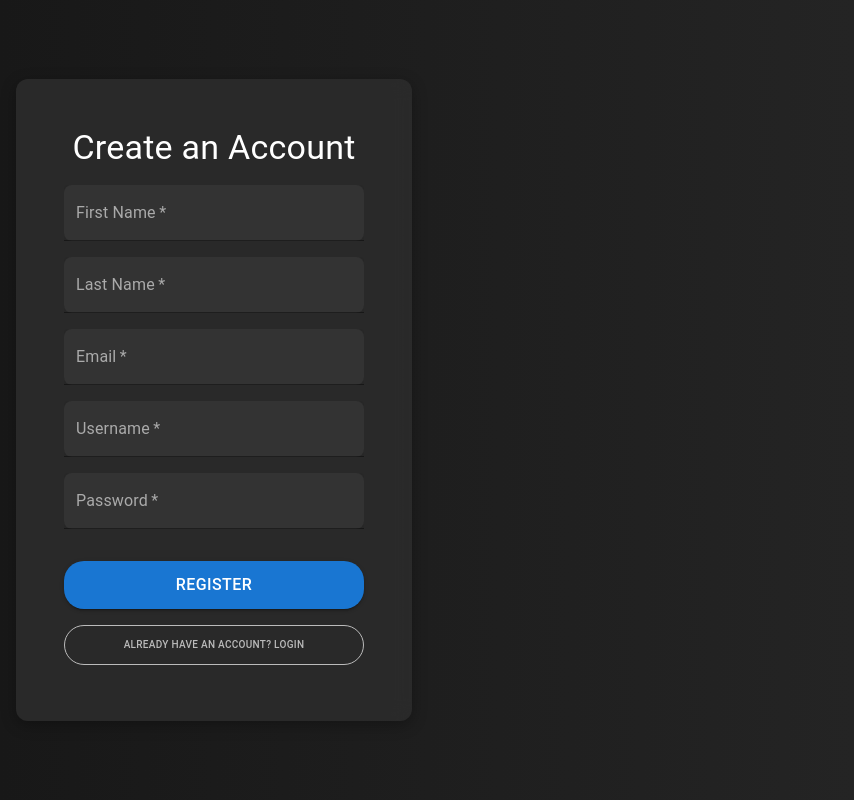
Test: Register Page › should validate email format
Fill all fields but with invalid email
Step 1. Type "Test" into the field with id "tf-fName" → (214, 213), box [64,185,364,241]
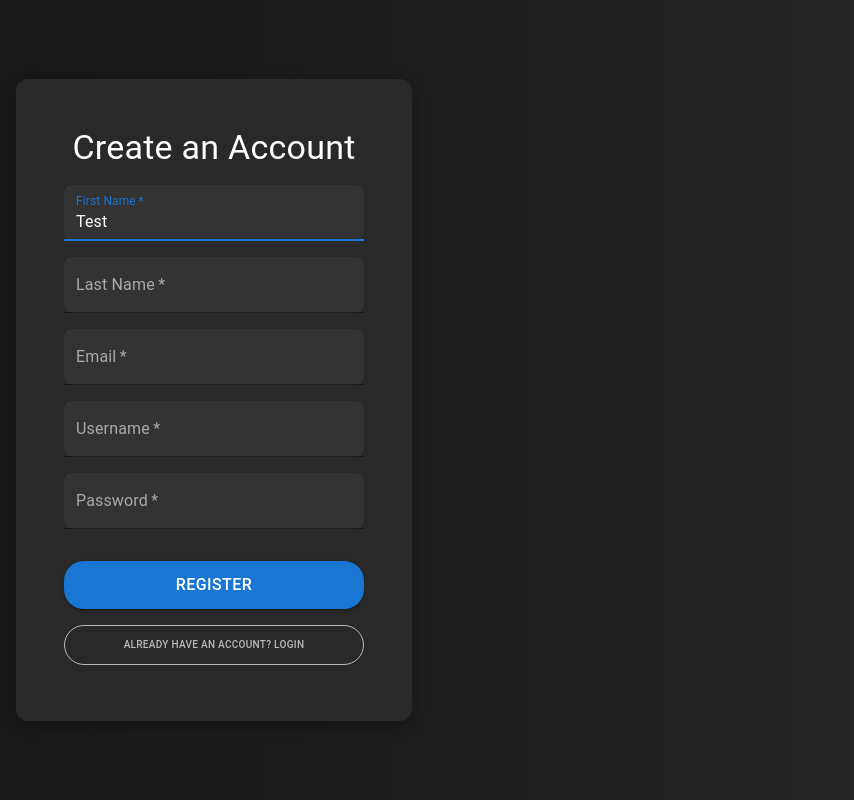
Step 2. Type "User" into the field with id "tf-lName" → (214, 285), box [64,257,364,313]
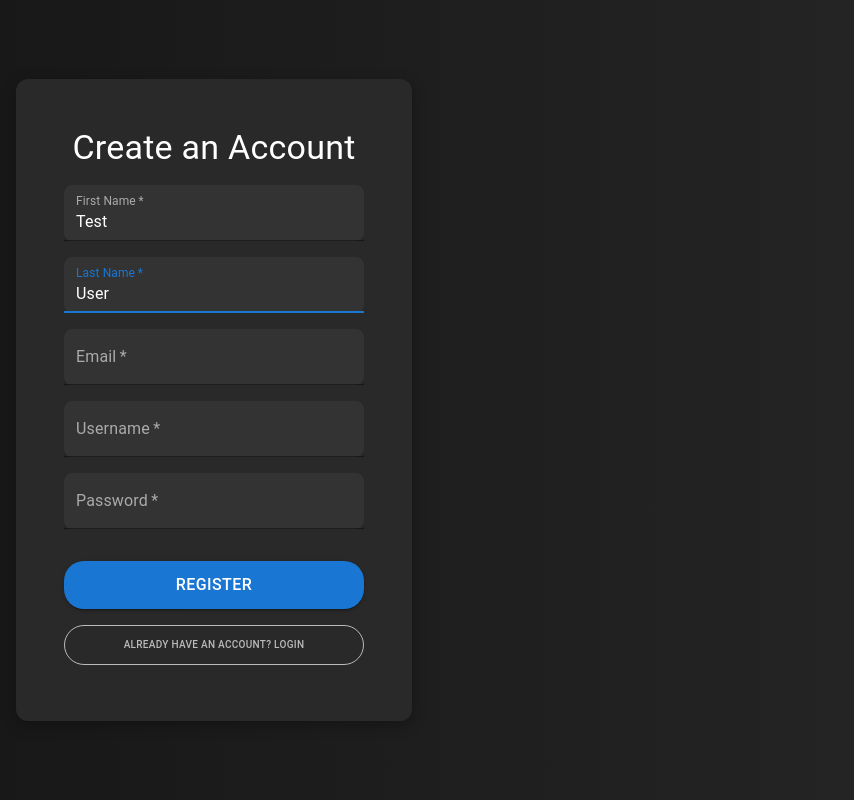
Step 3. Type "invalid-email" into the field with id "tf-email" → (214, 357), box [64,329,364,385]
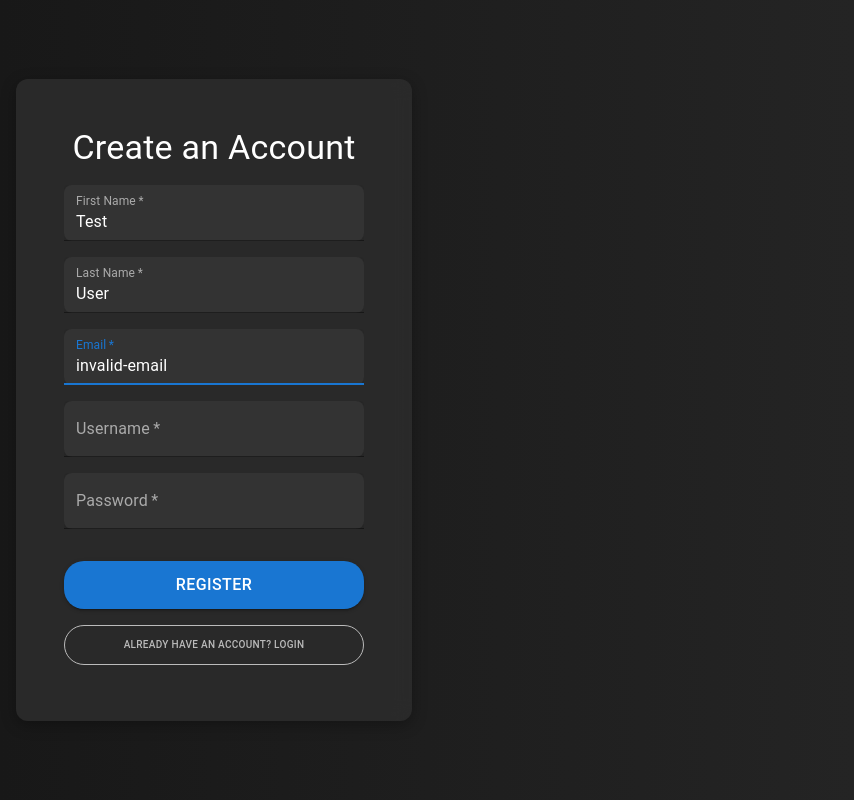
Step 4. Type "testuser" into the field with id "tf-username" → (214, 429), box [64,401,364,457]
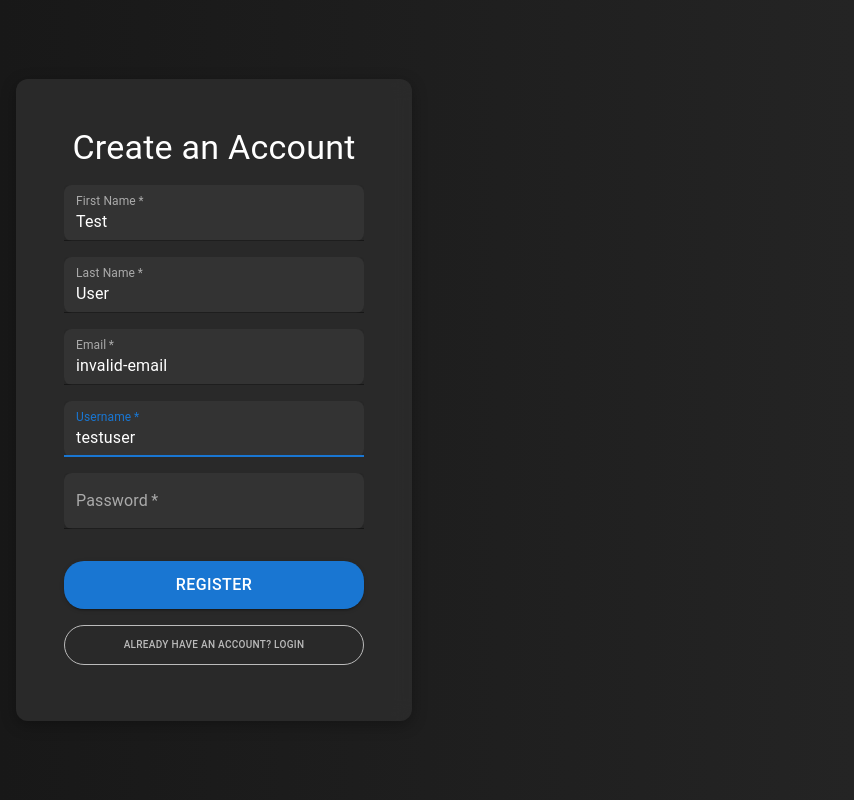
Step 5. Type "12345678" into the password field with id "tf-password" → (214, 501), box [64,473,364,529]
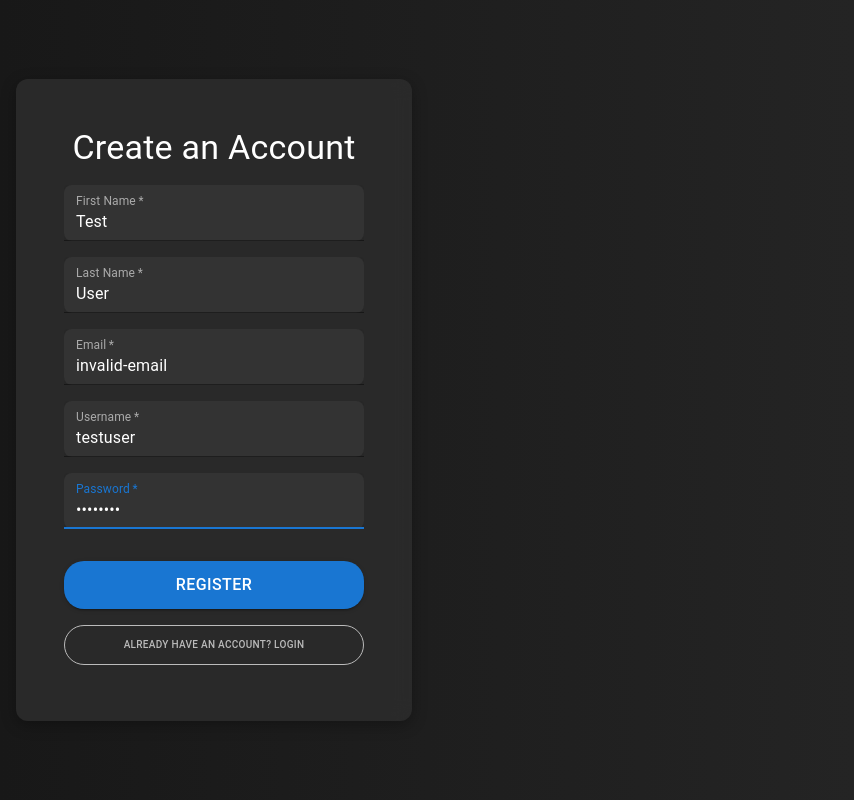
Step 6. Click the button "Register" → (214, 585), box [64,561,364,609]
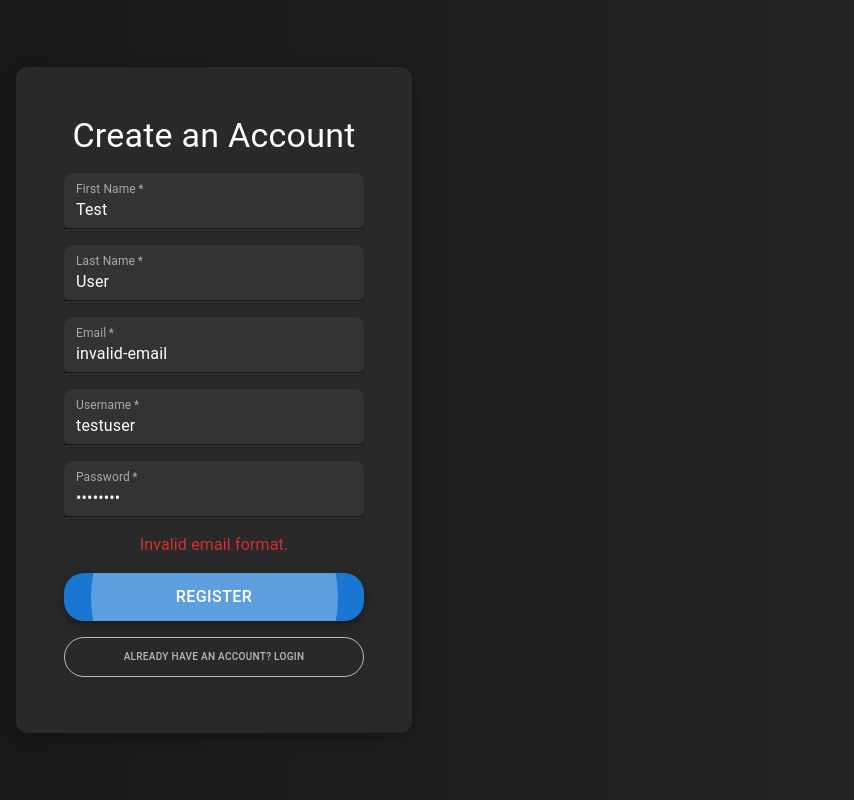
Check: the text "Invalid email format." is shown, box [140,535,288,554]
